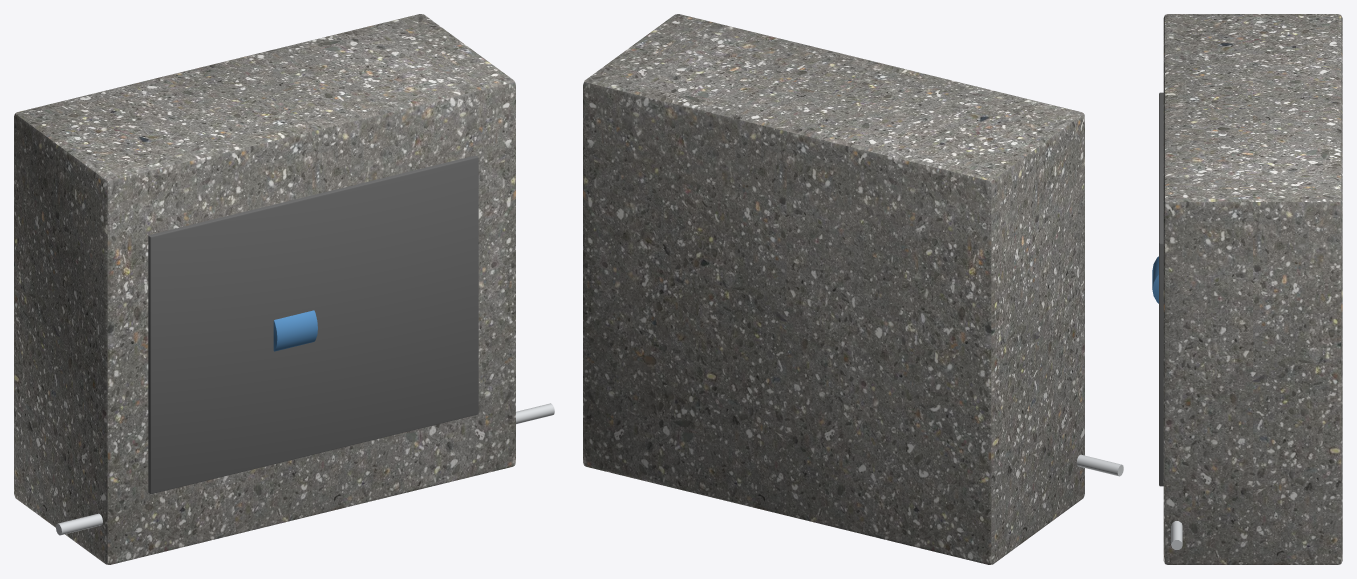
File: SER-LIG-002.glb
3 renders of one model, left to right at view 1: azimuth 30°, elevation 25°; view 2: azimuth 150°, elevation 25°; view 3: azimuth 270°, elevation 25°, orthographic. The views are drawn at different scales.
Parts seen in each view (by area): view 1: SER-LIG-002_mureta, SER-LIG-002_nicho, SER-LIG-002_hidrometro; view 2: SER-LIG-002_mureta; view 3: SER-LIG-002_mureta, SER-LIG-002_nicho, SER-LIG-002_tubo4, SER-LIG-002_hidrometro.
Part boxes in pixels (x1,y1,x2,y2): SER-LIG-002_mureta: (14, 14, 515, 564); SER-LIG-002_nicho: (148, 155, 478, 493); SER-LIG-002_hidrometro: (273, 310, 317, 351); SER-LIG-002_mureta: (583, 14, 1084, 564); SER-LIG-002_mureta: (1163, 14, 1342, 564); SER-LIG-002_nicho: (1159, 92, 1163, 486); SER-LIG-002_tubo4: (1171, 521, 1182, 549); SER-LIG-002_hidrometro: (1152, 256, 1158, 303).
Size of the model in its own units: 1.2 by 0.9 by 0.425.
Materials: 7 (2 with a texture image).
